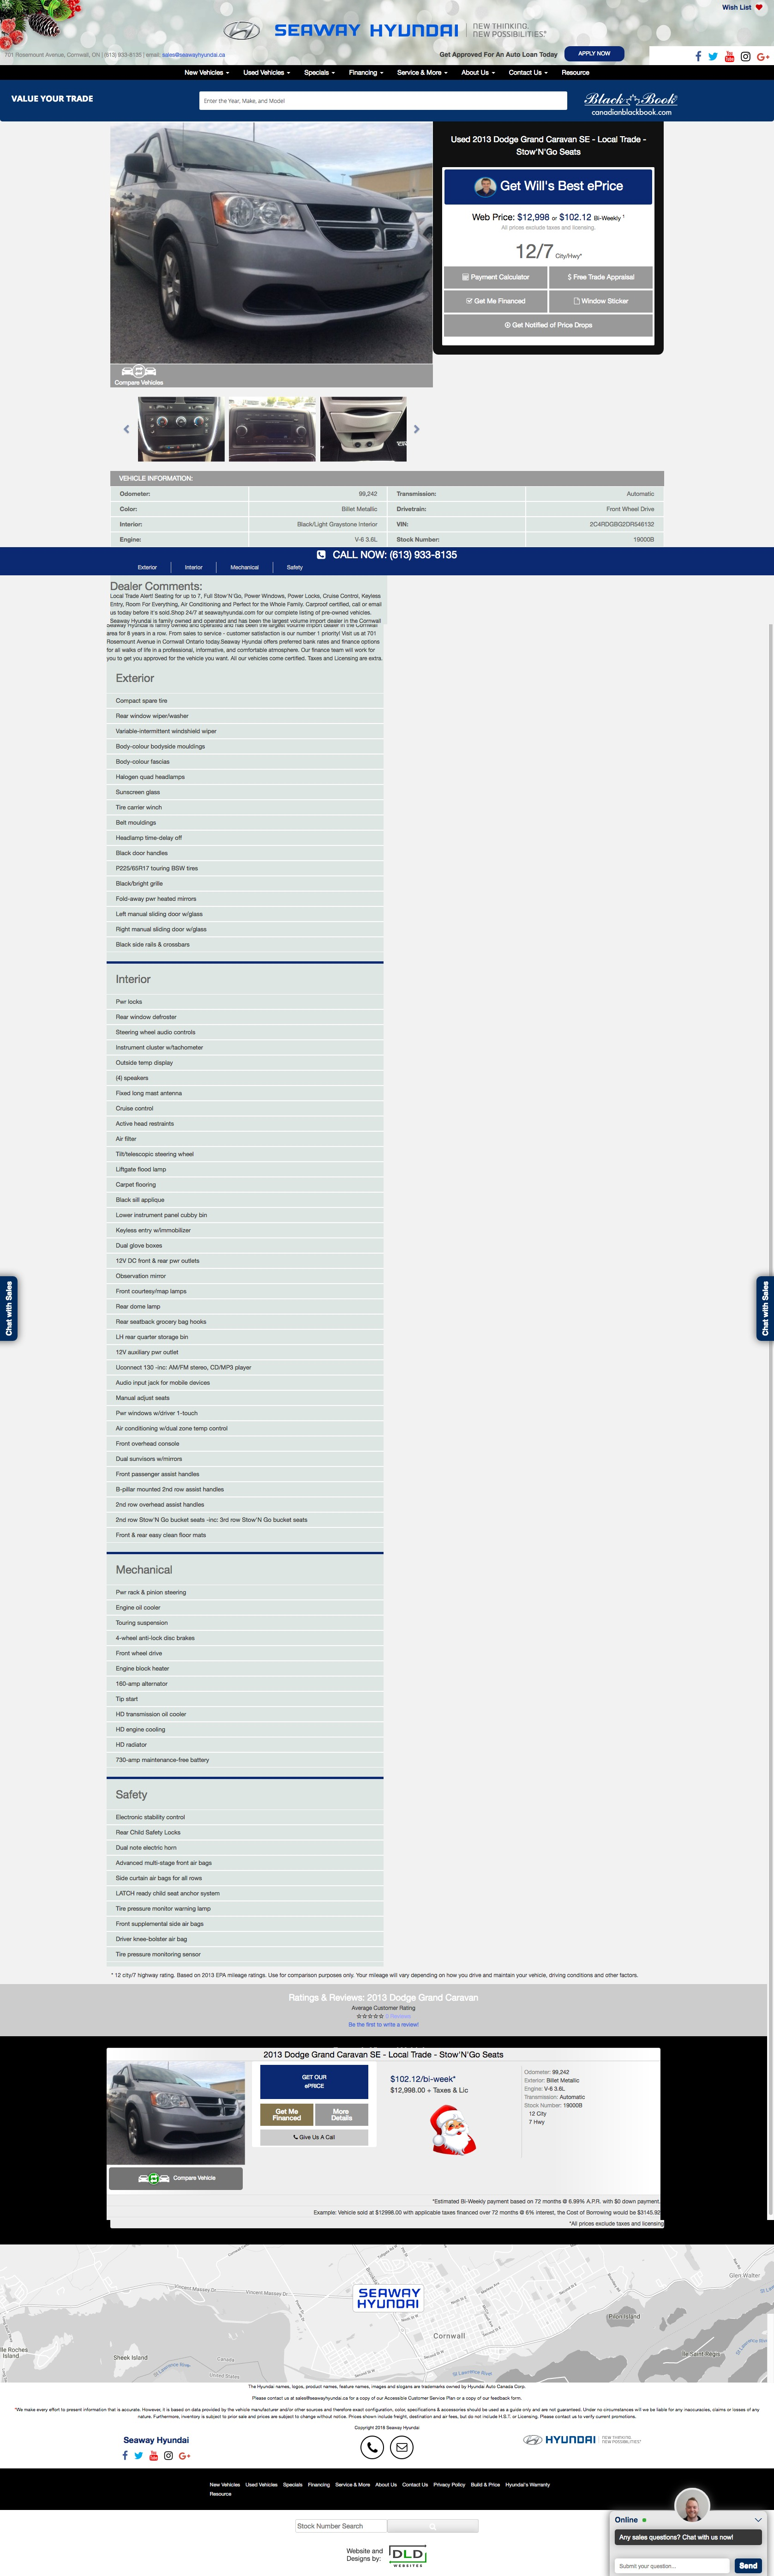car: (412, 425, 421, 434)
